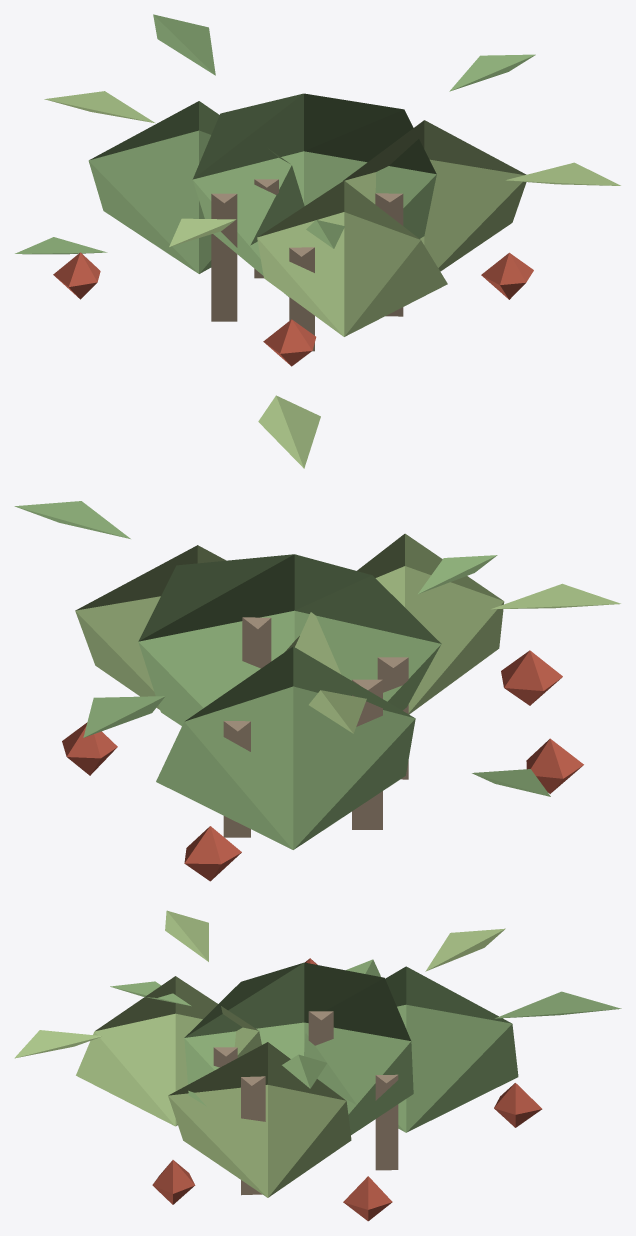
The model's file is guan.aili@fruiting__bloom.glb.
The picture shows the model from 3 angles, top to bottom: view 1: azimuth 30°, elevation 25°; view 2: azimuth 150°, elevation 25°; view 3: azimuth 270°, elevation 25°; orthographic projection. The views are drawn at different scales.
Visible parts, largest first — view 1: guan.aili@fruiting__bloom; view 2: guan.aili@fruiting__bloom; view 3: guan.aili@fruiting__bloom.
Part boxes in pixels (left/top/right/bottom): guan.aili@fruiting__bloom: left=15, top=14, right=620, bottom=366; guan.aili@fruiting__bloom: left=14, top=395, right=620, bottom=881; guan.aili@fruiting__bloom: left=14, top=910, right=621, bottom=1221.
Bounding box in the file's own units: 2.07 × 0.8506 × 2.32.
